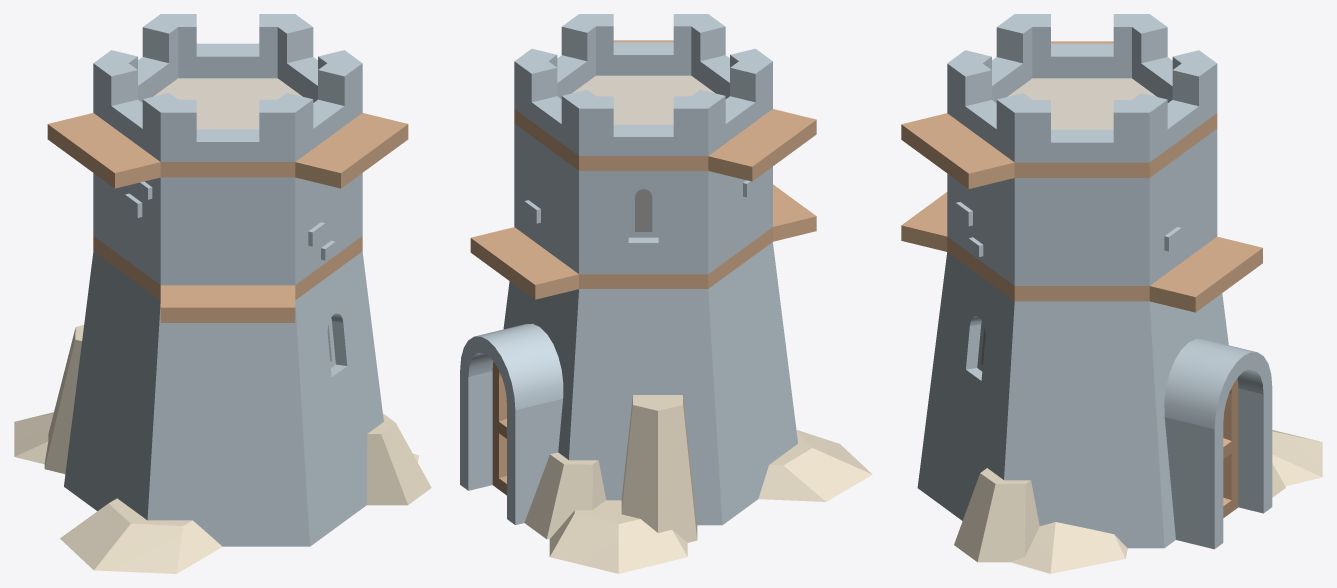
The model's file is tower.glb.
3 views of the same model, side by side, from view 1: azimuth 30°, elevation 25°; view 2: azimuth 150°, elevation 25°; view 3: azimuth 270°, elevation 25° (orthographic). The views are drawn at different scales.
Visible parts, largest first — view 1: tower; view 2: tower; view 3: tower.
Boxes of the visible parts, box(x1,y1,x2,y2) form: tower: box(14, 14, 431, 573); tower: box(460, 14, 872, 573); tower: box(901, 14, 1322, 573).
Size of the model in its own units: 3.32 by 3.71 by 3.34.
